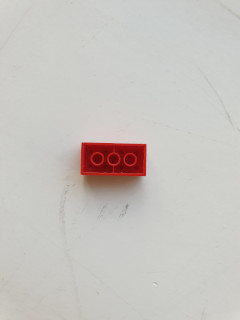2x4 red: (80, 142, 147, 176)
